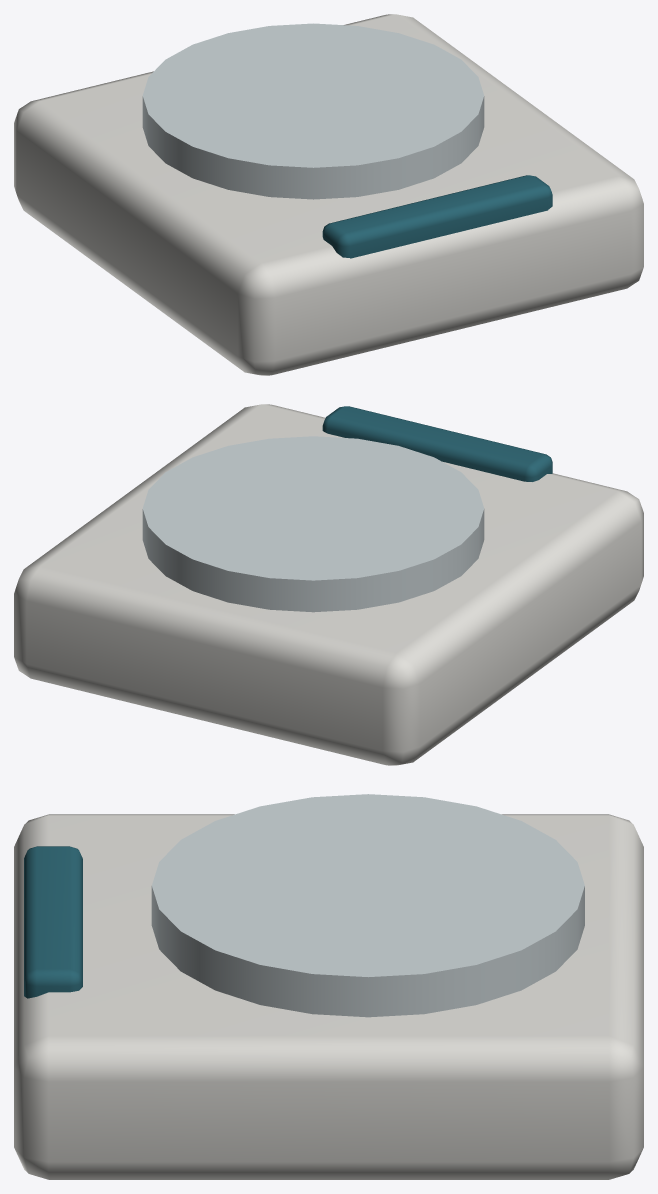
The model's file is Lab_Balance.fbx.
3 renders of one model, top to bottom at view 1: azimuth 30°, elevation 25°; view 2: azimuth 150°, elevation 25°; view 3: azimuth 270°, elevation 25°, orthographic. The views are drawn at different scales.
Parts seen in each view (by area): view 1: Lab_Balance_White, Lab_Balance_Steel, Lab_Balance_Screen; view 2: Lab_Balance_White, Lab_Balance_Steel, Lab_Balance_Screen; view 3: Lab_Balance_White, Lab_Balance_Steel, Lab_Balance_Screen.
Part boxes in pixels (left/top/right/bottom): Lab_Balance_White: left=14, top=14, right=643, bottom=375; Lab_Balance_Steel: left=142, top=23, right=484, bottom=199; Lab_Balance_Screen: left=322, top=175, right=552, bottom=258; Lab_Balance_White: left=14, top=404, right=643, bottom=765; Lab_Balance_Steel: left=142, top=436, right=484, bottom=612; Lab_Balance_Screen: left=322, top=406, right=552, bottom=481; Lab_Balance_White: left=14, top=814, right=643, bottom=1179; Lab_Balance_Steel: left=151, top=794, right=584, bottom=1017; Lab_Balance_Screen: left=24, top=846, right=82, bottom=998.
Size of the model in its own units: 30 by 10.25 by 32.
